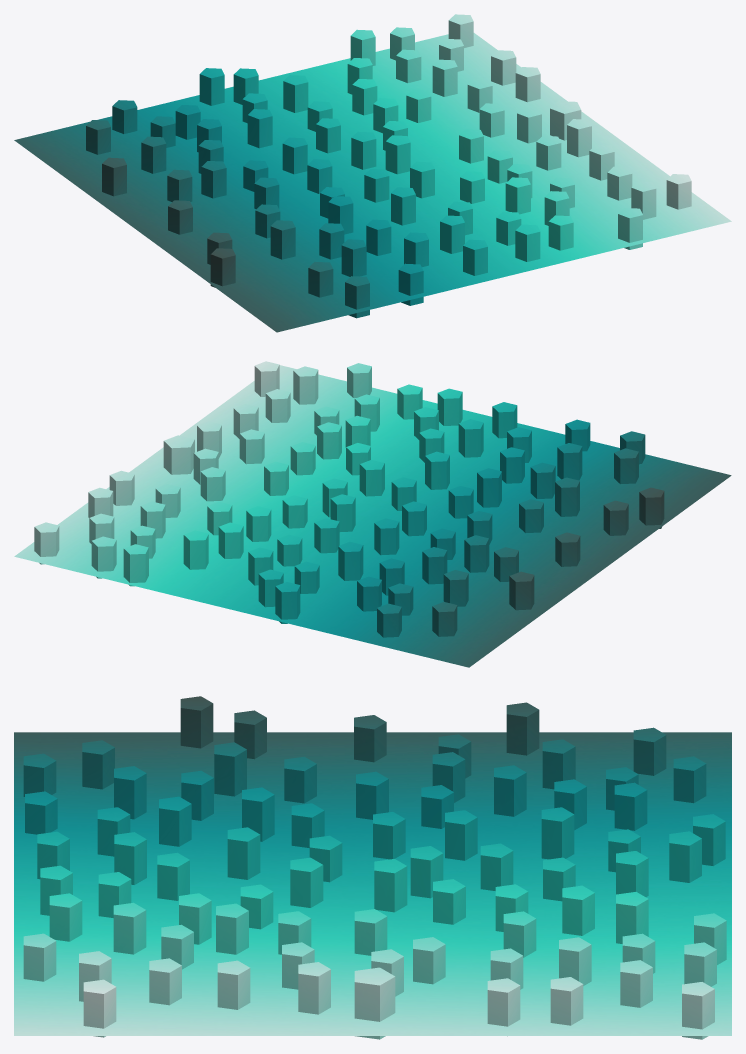
The model's file is lvl_gra.fbx.
The picture shows the model from 3 angles, top to bottom: view 1: azimuth 30°, elevation 25°; view 2: azimuth 150°, elevation 25°; view 3: azimuth 270°, elevation 25°; orthographic projection. The views are drawn at different scales.
Visible parts, largest first — view 1: lev_gra_1; view 2: lev_gra_1; view 3: lev_gra_1.
Boxes of the visible parts, x1,y1,x2,y2 form: lev_gra_1: (14,14,731,332); lev_gra_1: (14,361,731,667); lev_gra_1: (14,696,731,1039).
Size of the model in its own units: 23489 by 2080 by 23489.
1 material, 1 textured.
